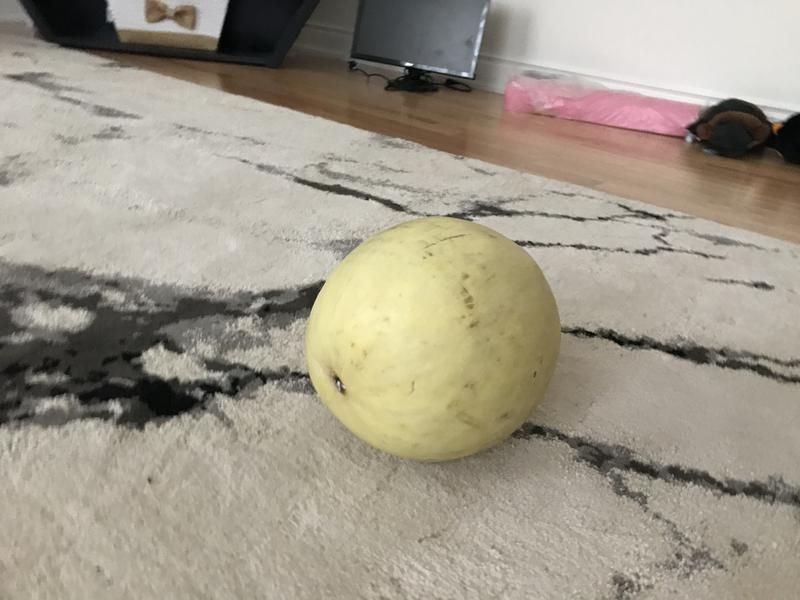honeydew: (294, 199, 567, 485)
